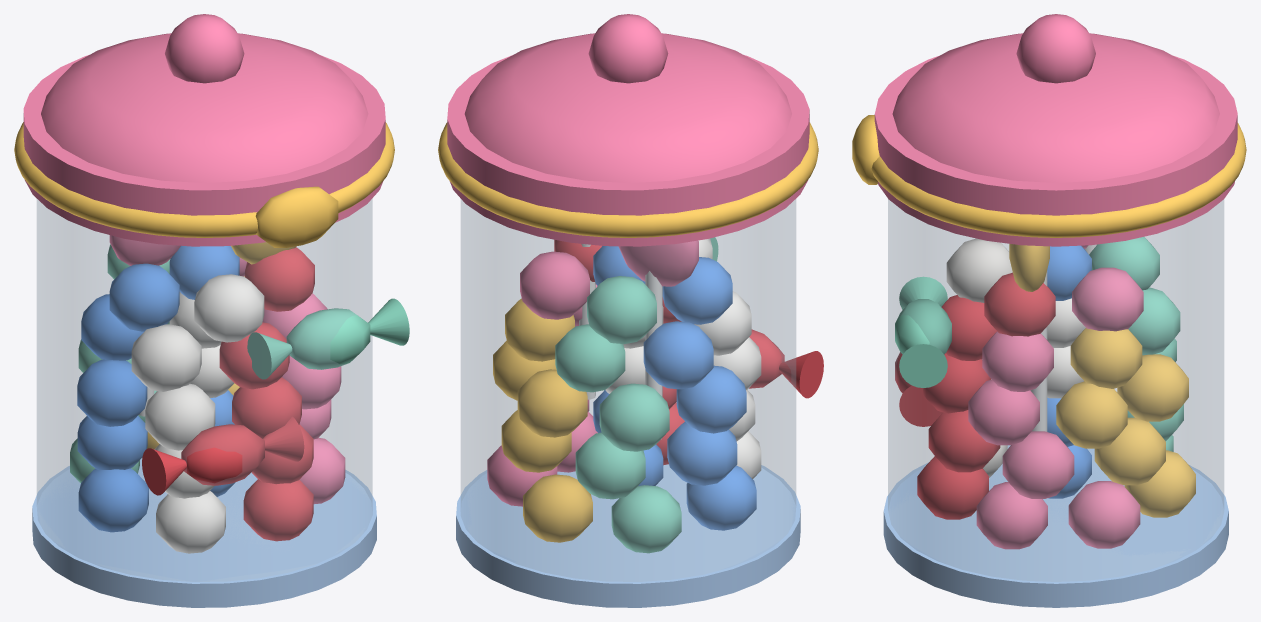
File: album_bonbonglas.glb
3 views of the same model, side by side, from view 1: azimuth 30°, elevation 25°; view 2: azimuth 150°, elevation 25°; view 3: azimuth 270°, elevation 25° (orthographic).
Visible parts, largest first — view 1: album_bonbonglas; view 2: album_bonbonglas; view 3: album_bonbonglas.
Boxes of the visible parts, x1,y1,x2,y2 form: album_bonbonglas: (14, 14, 409, 607); album_bonbonglas: (438, 14, 823, 607); album_bonbonglas: (852, 14, 1246, 607).
Bounding box in the file's own units: 0.344 × 0.516 × 0.3563.
